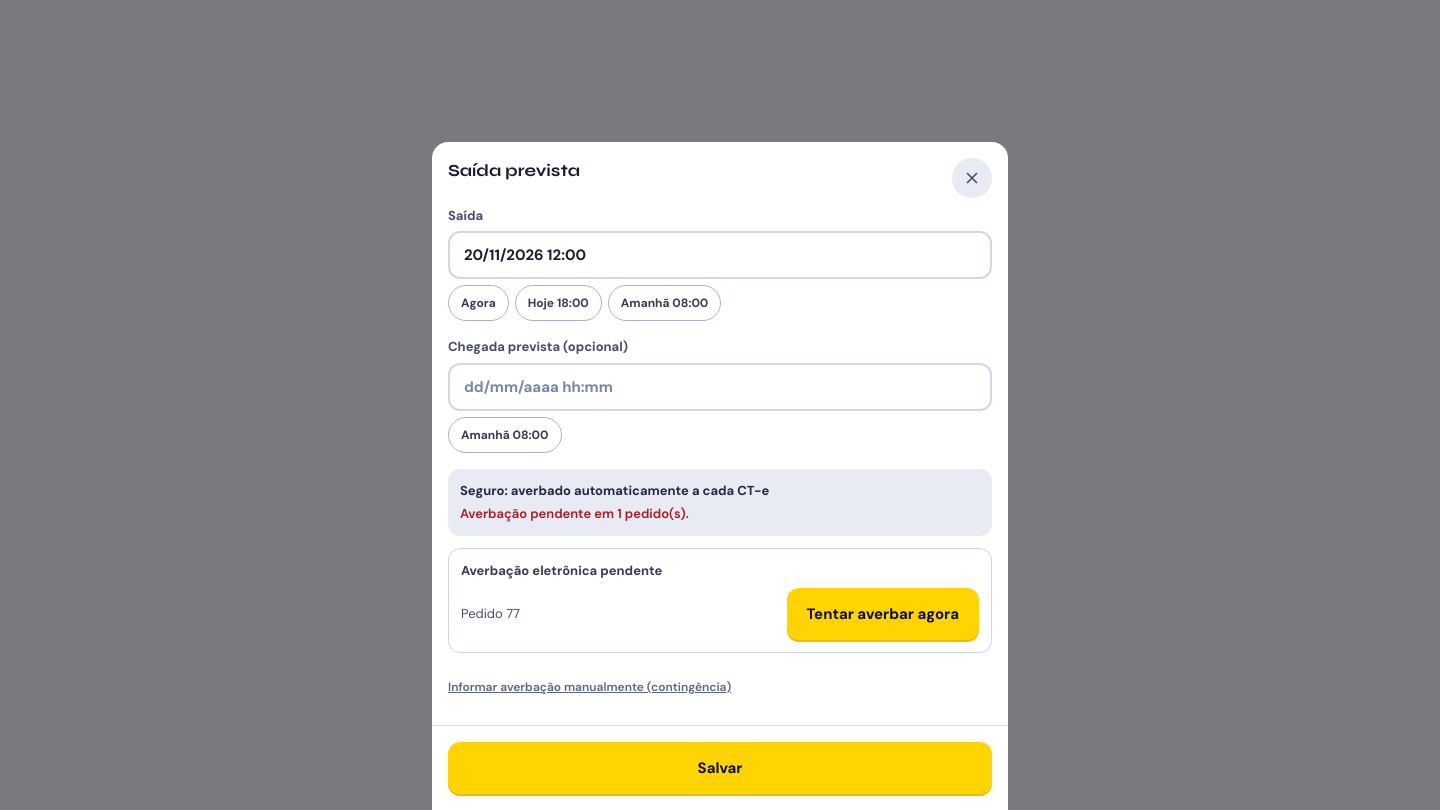
Test case: averbação eletrônica: esconde o campo, mostra o estado e libera a contingência manual
Expected: the field labelled "Averbação do seguro" is not shown
Expected: the text "Seguro: averbado automaticamente a cada CT-e" is shown, [460, 482, 769, 498]
Click the button "Salvar".
click(720, 768)  # box [448, 742, 992, 794]
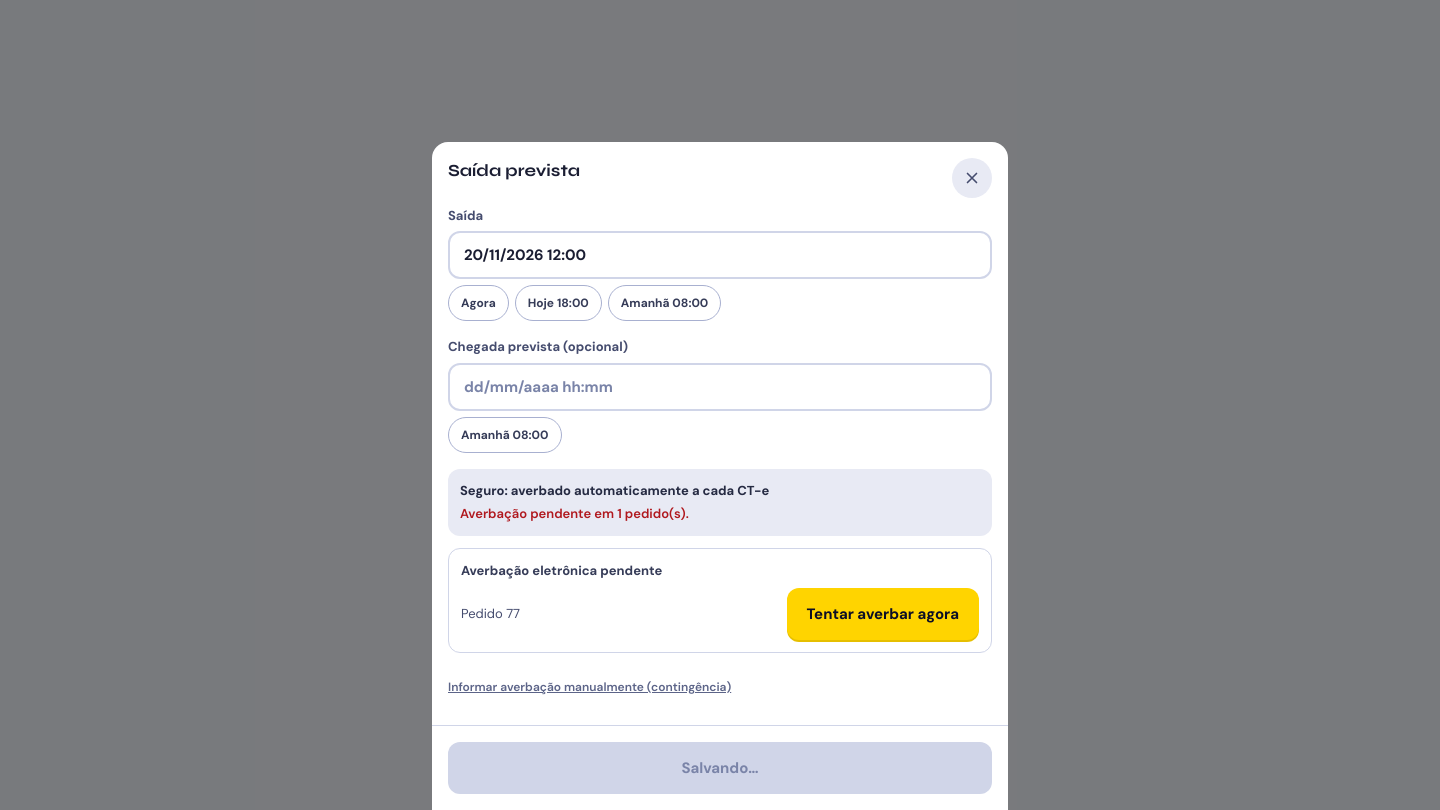
Click the button "Informar averbação manualmente (contingência)".
click(590, 687)  # box [448, 665, 731, 709]
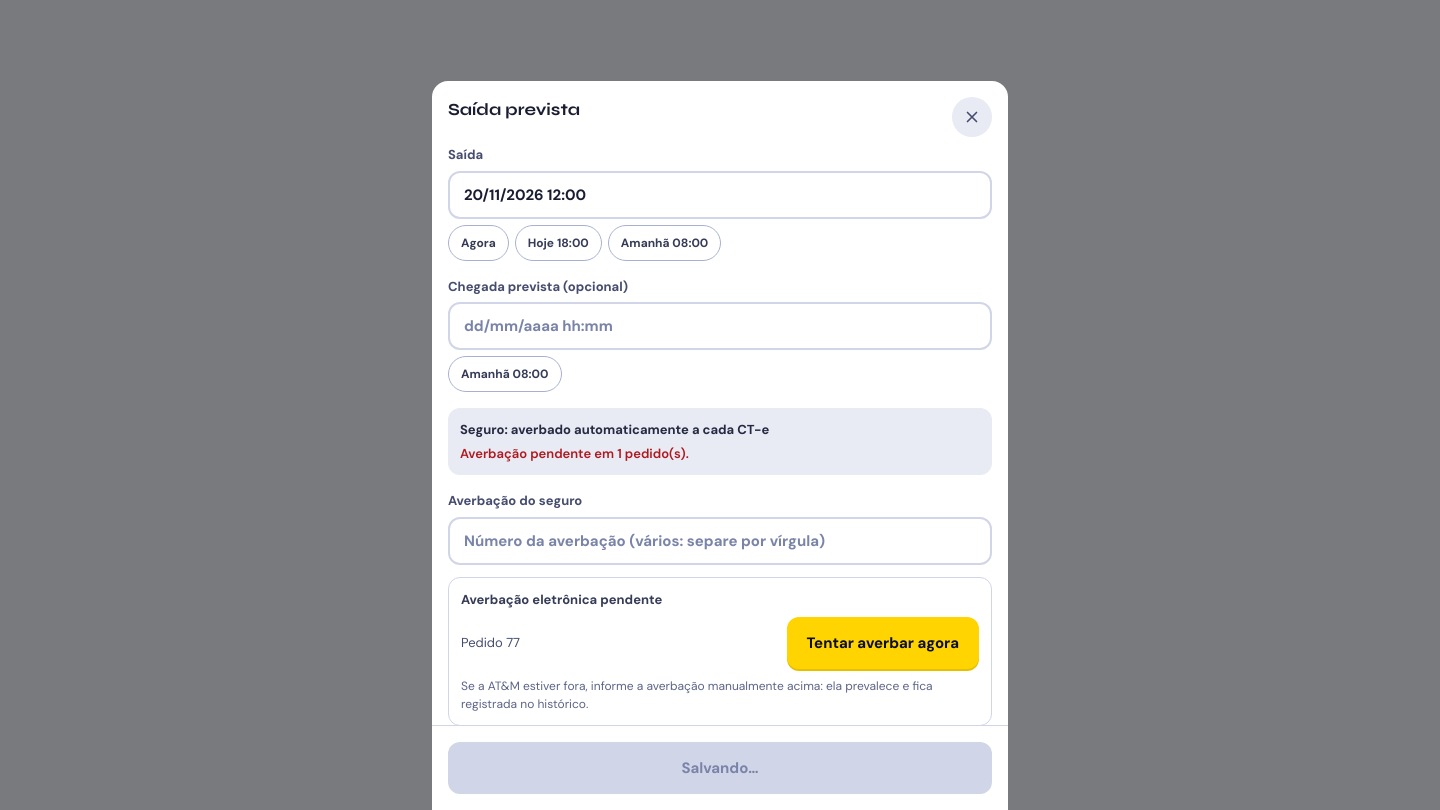
Now the field labelled "Averbação do seguro" is shown, box [448, 516, 992, 564]
